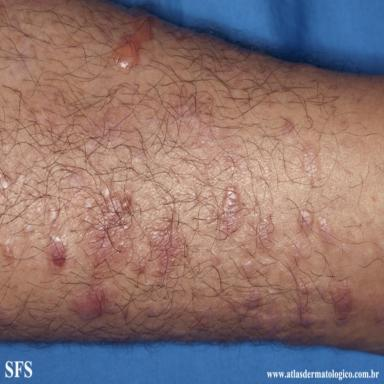Epidermolysis-Bullosa-Pruriginosa: (75, 187, 132, 319), (111, 14, 158, 68), (149, 218, 186, 276), (327, 279, 353, 326), (221, 187, 243, 235), (293, 287, 314, 326), (302, 141, 319, 184), (257, 215, 275, 249), (49, 236, 67, 268), (298, 201, 313, 235), (317, 216, 335, 244), (238, 289, 261, 309), (1, 241, 14, 265), (241, 259, 256, 278), (47, 202, 59, 224), (133, 253, 145, 274), (210, 249, 222, 266), (281, 121, 293, 137)
